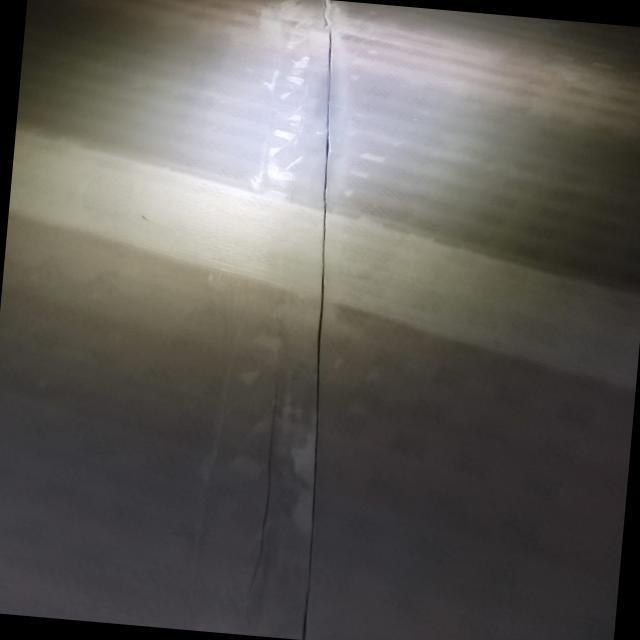Tear: (290, 0, 345, 640)
